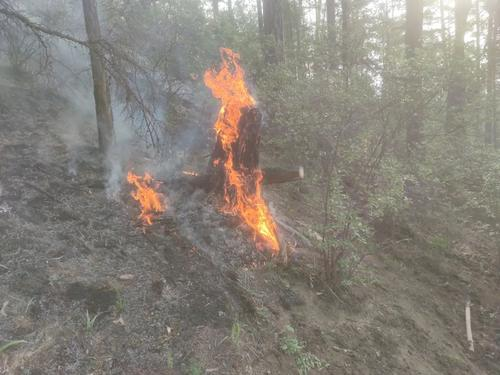fire: (222, 161, 276, 245), (205, 51, 251, 144), (130, 174, 160, 212)
